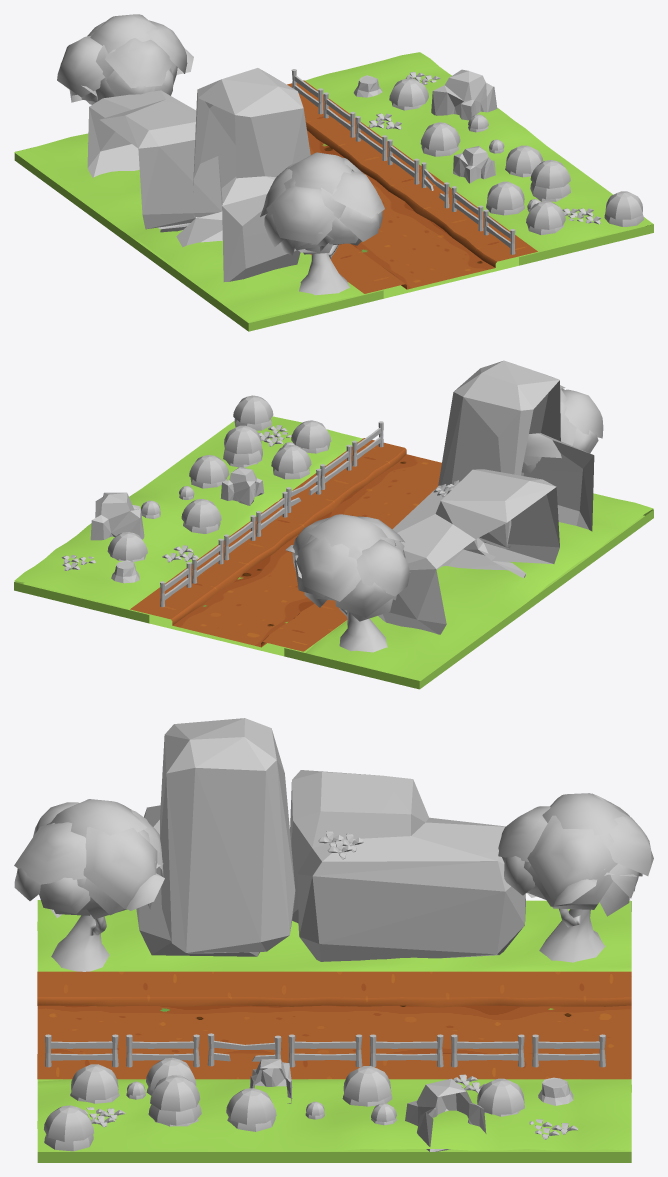
File: Forest2.fbx
3 views of the same model, one above another, from view 1: azimuth 30°, elevation 25°; view 2: azimuth 150°, elevation 25°; view 3: azimuth 270°, elevation 25° (orthographic). The views are drawn at different scales.
Visible parts, largest first — view 1: Rock4.001, road_I_2.048, road_I_2.051, Rock4, BOSQUELOWPOLY.040, BOSQUELOWPOLY.012, Plane.024, road_I_2.045, Cube.022, WoodFence2.001, Rock5.003, road_I_2.046 (+10 smaller); view 2: Rock4, road_I_2.048, Rock4.001, road_I_2.051, Plane.024, BOSQUELOWPOLY.012, road_I_2.045, Cube.022, WoodFence2.001, BOSQUELOWPOLY.040, road_I_2.046, Rock5.003 (+10 smaller); view 3: Rock4, Rock4.001, road_I_2.048, Plane.024, BOSQUELOWPOLY.040, BOSQUELOWPOLY.012, road_I_2.046, road_I_2.051, road_I_2.045, WoodFence2.001, Cube.022, road_I_2.040 (+10 smaller).
Boxes of the visible parts, x1,y1,x2,y2 form: Rock4.001: (176, 68, 310, 281); road_I_2.048: (305, 52, 653, 253); road_I_2.051: (14, 133, 364, 321); Rock4: (87, 90, 222, 232); BOSQUELOWPOLY.040: (260, 152, 384, 295); BOSQUELOWPOLY.012: (57, 14, 193, 143); Plane.024: (307, 130, 494, 289); road_I_2.045: (287, 80, 537, 261); Cube.022: (14, 147, 653, 331); WoodFence2.001: (291, 69, 515, 254); Rock5.003: (431, 69, 497, 120); road_I_2.046: (310, 243, 404, 293); Rock4: (378, 469, 559, 634); road_I_2.048: (14, 416, 362, 609); Rock4.001: (438, 360, 594, 548); road_I_2.051: (306, 493, 653, 680); Plane.024: (173, 454, 441, 647); BOSQUELOWPOLY.012: (286, 514, 410, 652); road_I_2.045: (130, 438, 404, 619); Cube.022: (14, 509, 653, 689); WoodFence2.001: (160, 421, 383, 607); BOSQUELOWPOLY.040: (521, 385, 603, 473); road_I_2.046: (263, 600, 347, 651); Rock5.003: (90, 492, 144, 540); Rock4: (290, 770, 525, 961); Rock4.001: (136, 718, 295, 956); road_I_2.048: (37, 1079, 631, 1151); Plane.024: (37, 1005, 631, 1053); BOSQUELOWPOLY.040: (14, 799, 164, 971); BOSQUELOWPOLY.012: (498, 793, 653, 962); road_I_2.046: (37, 971, 631, 998); road_I_2.051: (37, 900, 631, 971); road_I_2.045: (37, 1052, 631, 1079); WoodFence2.001: (45, 1033, 605, 1067); Cube.022: (37, 901, 631, 1162); road_I_2.040: (37, 997, 631, 1007).
Bounding box in the file's own units: 10160 × 4302 × 10774.
